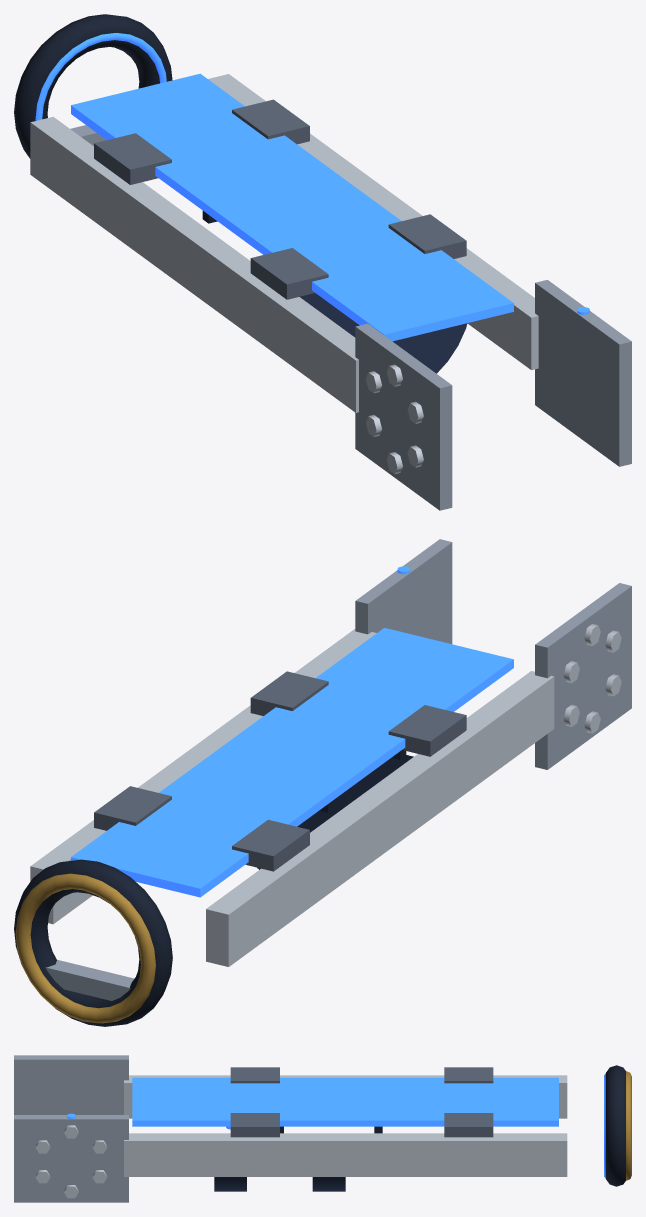
File: tower_lance_damage_s6.glb
3 views of the same model, one above another, from view 1: azimuth 30°, elevation 25°; view 2: azimuth 150°, elevation 25°; view 3: azimuth 270°, elevation 25° (orthographic). The views are drawn at different scales.
Parts seen in each view (by area): view 1: lance_accelerator_b, lance_heavy_rail_r, lance_breech_cheek_l, lance_breech_cheek_r, lance_heavy_rail_l, lance_coil4, lance_heavy_rail_brace_r, lance_heavy_rail_brace2_r, lance_heavy_rail_brace_l, lance_heavy_rail_brace2_l, lance_coil_cap0, lance_cheek_bolts_l (+1 smaller); view 2: lance_accelerator_b, lance_heavy_rail_r, lance_breech_cheek_r, lance_coil4, lance_breech_cheek_l, lance_coil_winding4, lance_heavy_rail_l, lance_heavy_rail_brace_r, lance_heavy_rail_brace2_r, lance_insulator4, lance_heavy_rail_brace_l, lance_heavy_rail_brace2_l (+2 smaller); view 3: lance_accelerator_b, lance_heavy_rail_l, lance_breech_cheek_l, lance_breech_cheek_r, lance_coil4, lance_heavy_rail_r, lance_heavy_rail_brace_l, lance_heavy_rail_brace2_l, lance_cheek_bolts_r, lance_heavy_rail_brace_r, lance_heavy_rail_brace2_r, lance_coil_winding4 (+2 smaller).
Boxes of the visible parts, x1=… form: lance_accelerator_b: x1=71, y1=73, x2=513, y2=341; lance_heavy_rail_r: x1=30, y1=116, x2=358, y2=412; lance_breech_cheek_l: x1=535, y1=280, x2=631, y2=466; lance_breech_cheek_r: x1=355, y1=323, x2=452, y2=510; lance_heavy_rail_l: x1=208, y1=74, x2=538, y2=369; lance_coil4: x1=14, y1=14, x2=172, y2=158; lance_heavy_rail_brace_r: x1=250, y1=248, x2=328, y2=299; lance_heavy_rail_brace2_r: x1=94, y1=133, x2=171, y2=184; lance_heavy_rail_brace_l: x1=388, y1=214, x2=466, y2=258; lance_heavy_rail_brace2_l: x1=232, y1=99, x2=309, y2=144; lance_coil_cap0: x1=340, y1=322, x2=467, y2=373; lance_cheek_bolts_l: x1=365, y1=364, x2=423, y2=473; lance_accelerator_b: x1=71, y1=628, x2=513, y2=897; lance_heavy_rail_r: x1=206, y1=671, x2=554, y2=966; lance_breech_cheek_r: x1=535, y1=583, x2=631, y2=769; lance_coil4: x1=14, y1=859, x2=172, y2=1026; lance_breech_cheek_l: x1=355, y1=539, x2=452, y2=643; lance_coil_winding4: x1=15, y1=873, x2=155, y2=1023; lance_heavy_rail_l: x1=30, y1=629, x2=376, y2=924; lance_heavy_rail_brace_r: x1=388, y1=705, x2=466, y2=756; lance_heavy_rail_brace2_r: x1=232, y1=819, x2=309, y2=871; lance_insulator4: x1=45, y1=959, x2=134, y2=1000; lance_heavy_rail_brace_l: x1=250, y1=671, x2=328, y2=715; lance_heavy_rail_brace2_l: x1=94, y1=786, x2=171, y2=830; lance_accelerator_b: x1=132, y1=1077, x2=558, y2=1126; lance_heavy_rail_l: x1=124, y1=1133, x2=567, y2=1176; lance_breech_cheek_l: x1=14, y1=1115, x2=128, y2=1202; lance_breech_cheek_r: x1=14, y1=1055, x2=128, y2=1114; lance_coil4: x1=605, y1=1065, x2=625, y2=1186; lance_heavy_rail_r: x1=124, y1=1075, x2=567, y2=1118; lance_heavy_rail_brace_l: x1=230, y1=1113, x2=279, y2=1137; lance_heavy_rail_brace2_l: x1=444, y1=1113, x2=493, y2=1137; lance_cheek_bolts_r: x1=35, y1=1125, x2=107, y2=1198; lance_heavy_rail_brace_r: x1=230, y1=1067, x2=279, y2=1083; lance_heavy_rail_brace2_r: x1=444, y1=1067, x2=493, y2=1083; lance_coil_winding4: x1=626, y1=1071, x2=631, y2=1180.
Bounding box in the file's own units: 0.974 × 0.77 × 3.76.
